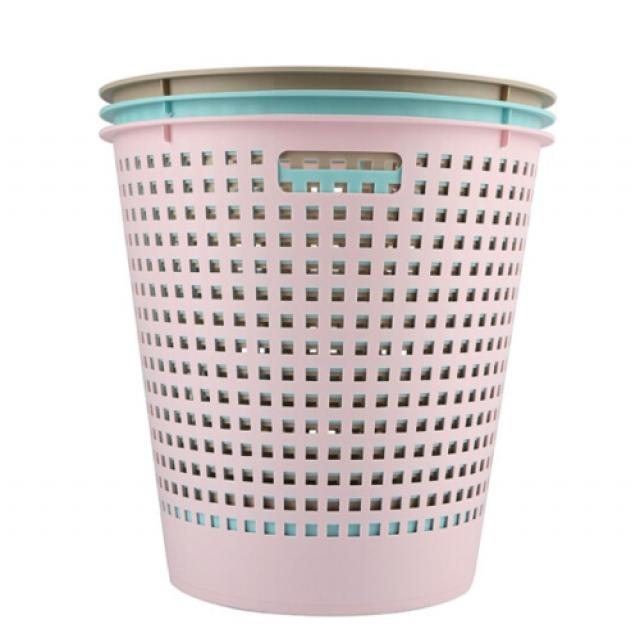Dustbin: (93, 58, 562, 622)
